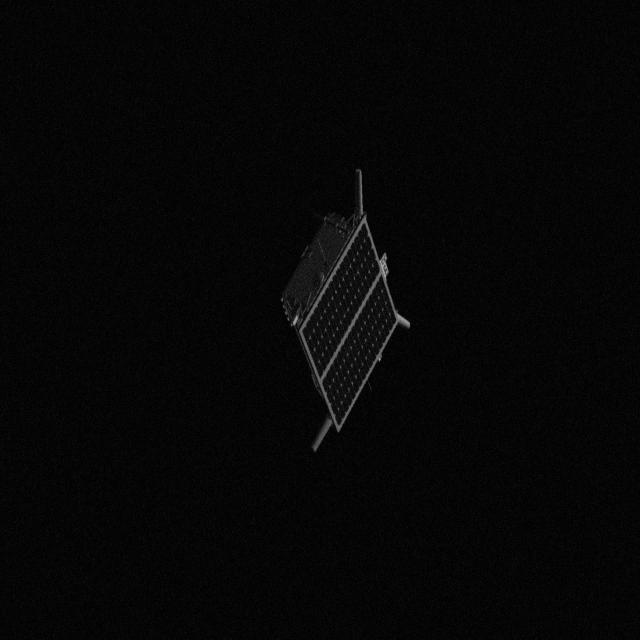medium_debris: (272, 168, 418, 458)
